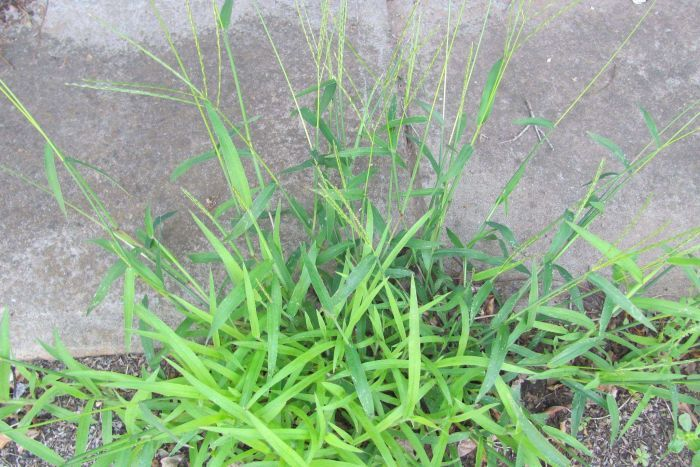crabgrass: (11, 83, 665, 467)
